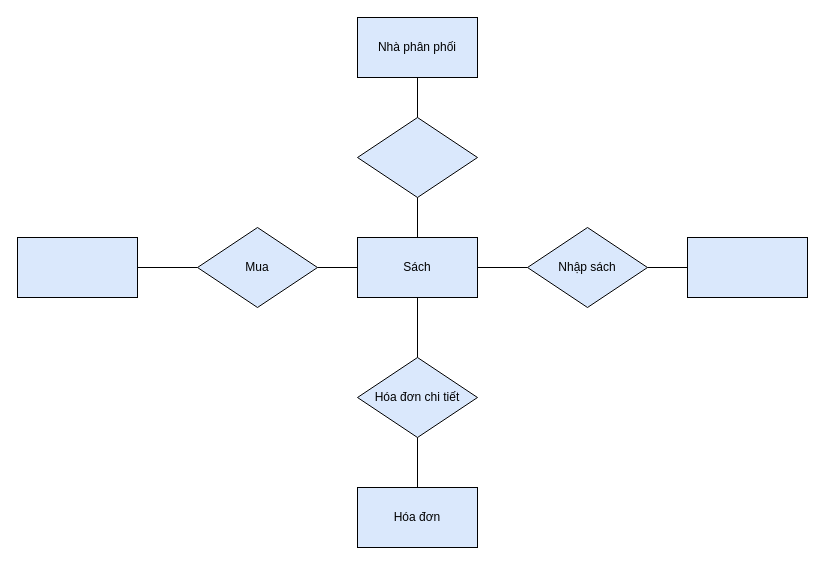
This 825x565 diagram has some shape labels left out. The box of each missing label's shape, as (x1, y1, x2, y2) in pixels:
Bán sách: (356, 116, 478, 198)
Khách hàng: (16, 236, 138, 298)
Nhân viên: (686, 236, 808, 298)
